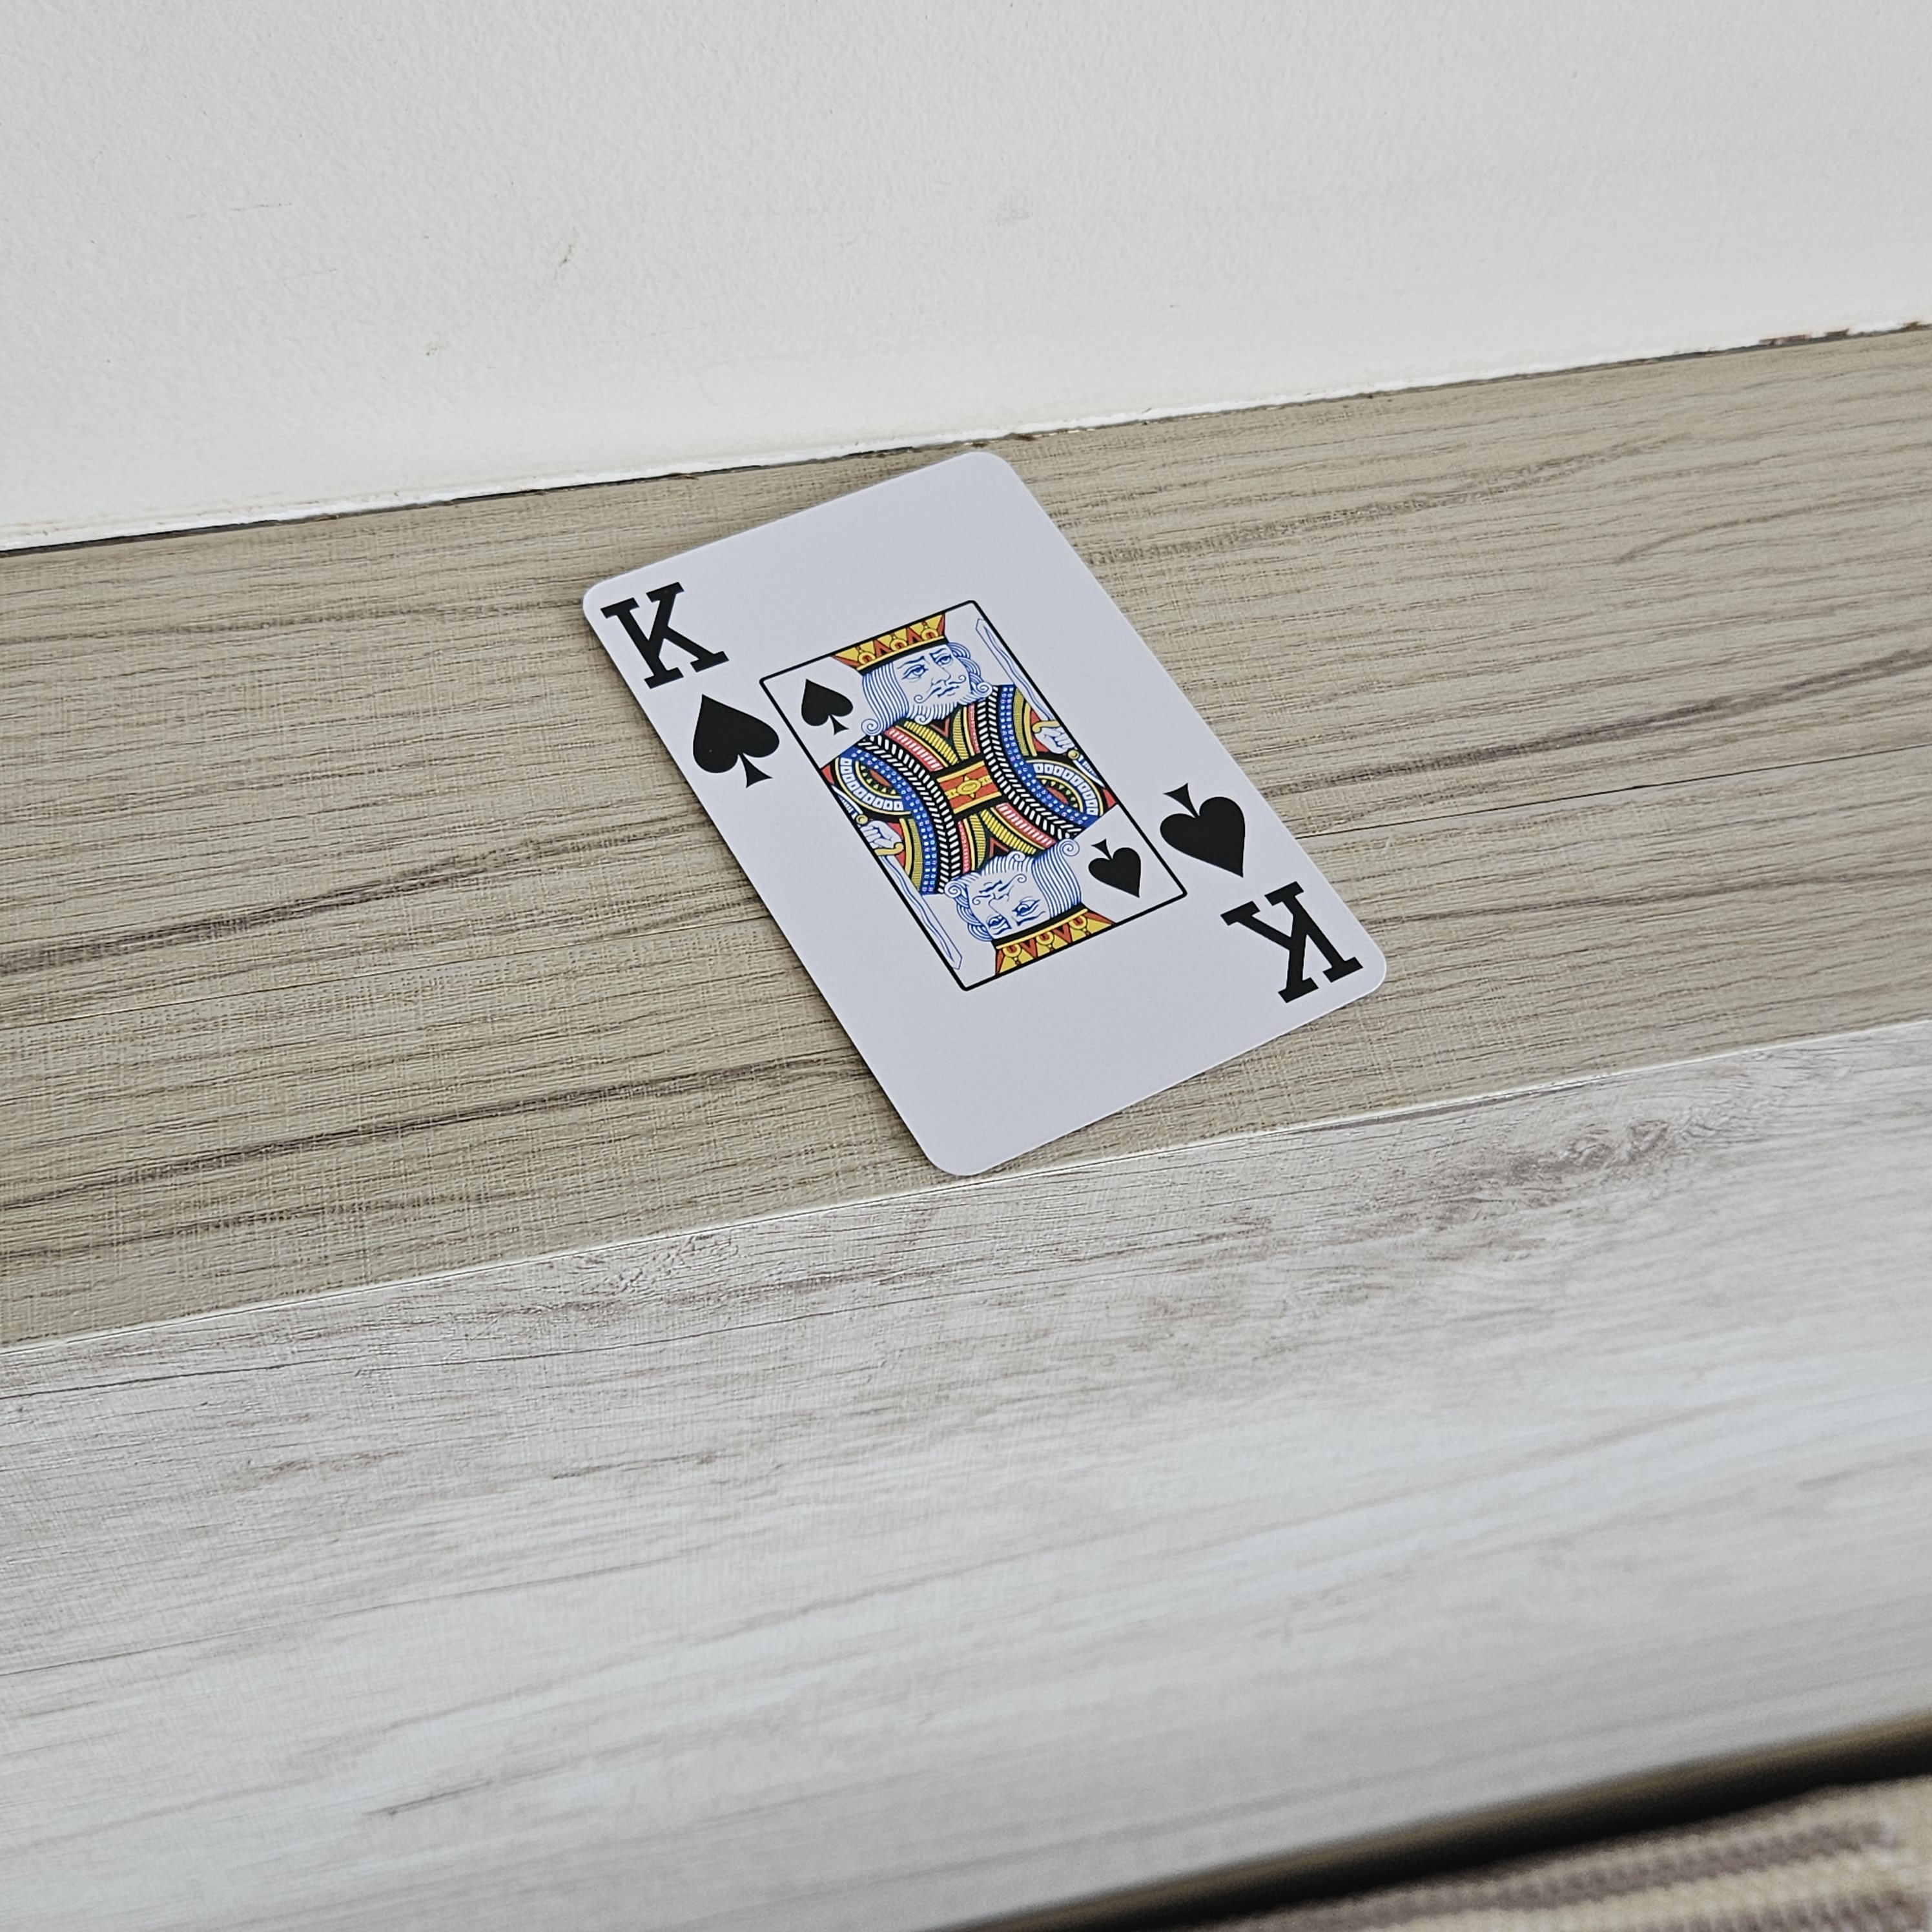KE: (1150, 764, 1371, 1012), (589, 566, 796, 816)
